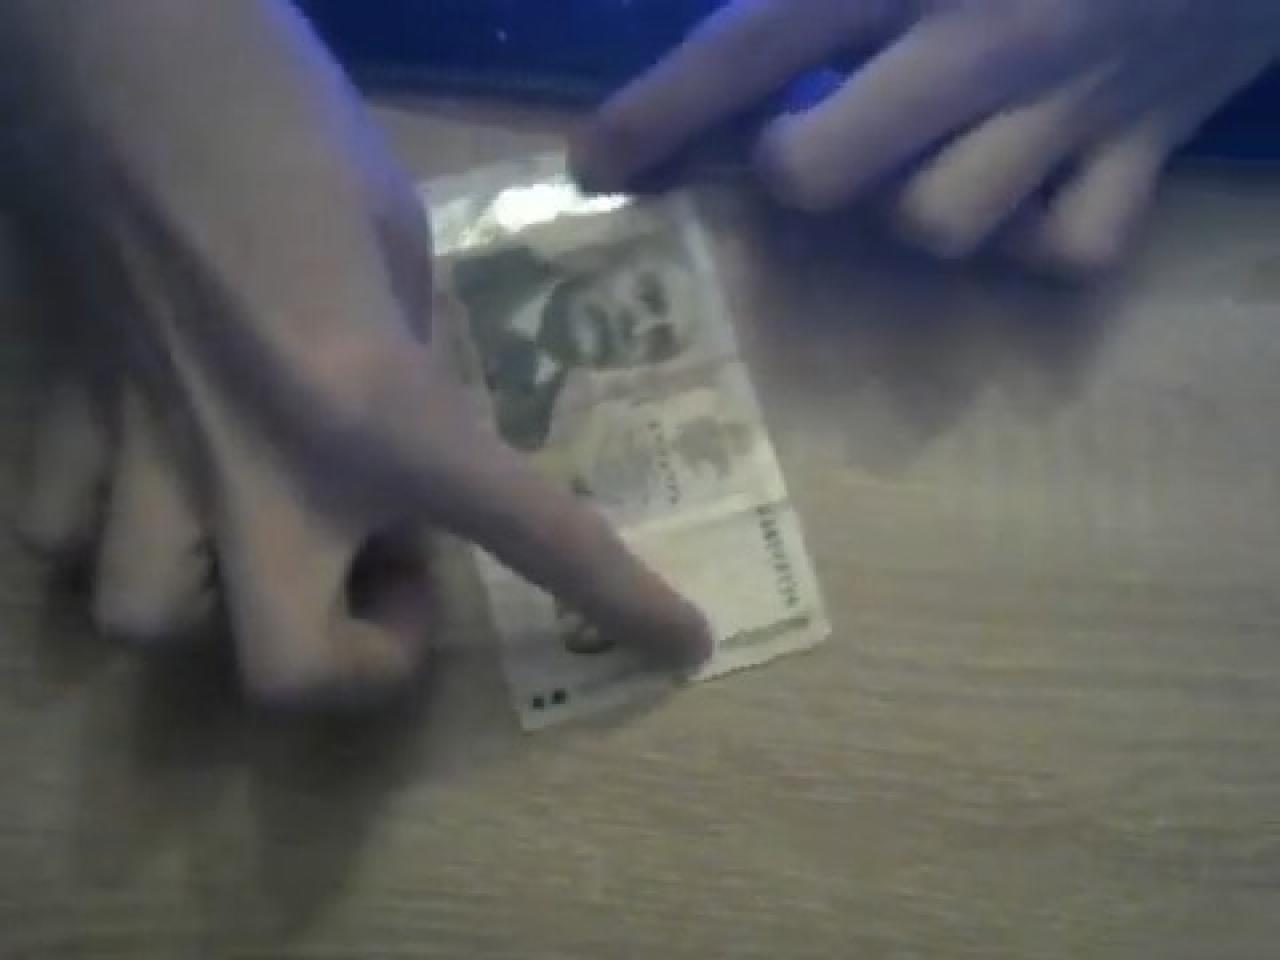10leva: (418, 152, 829, 683)
